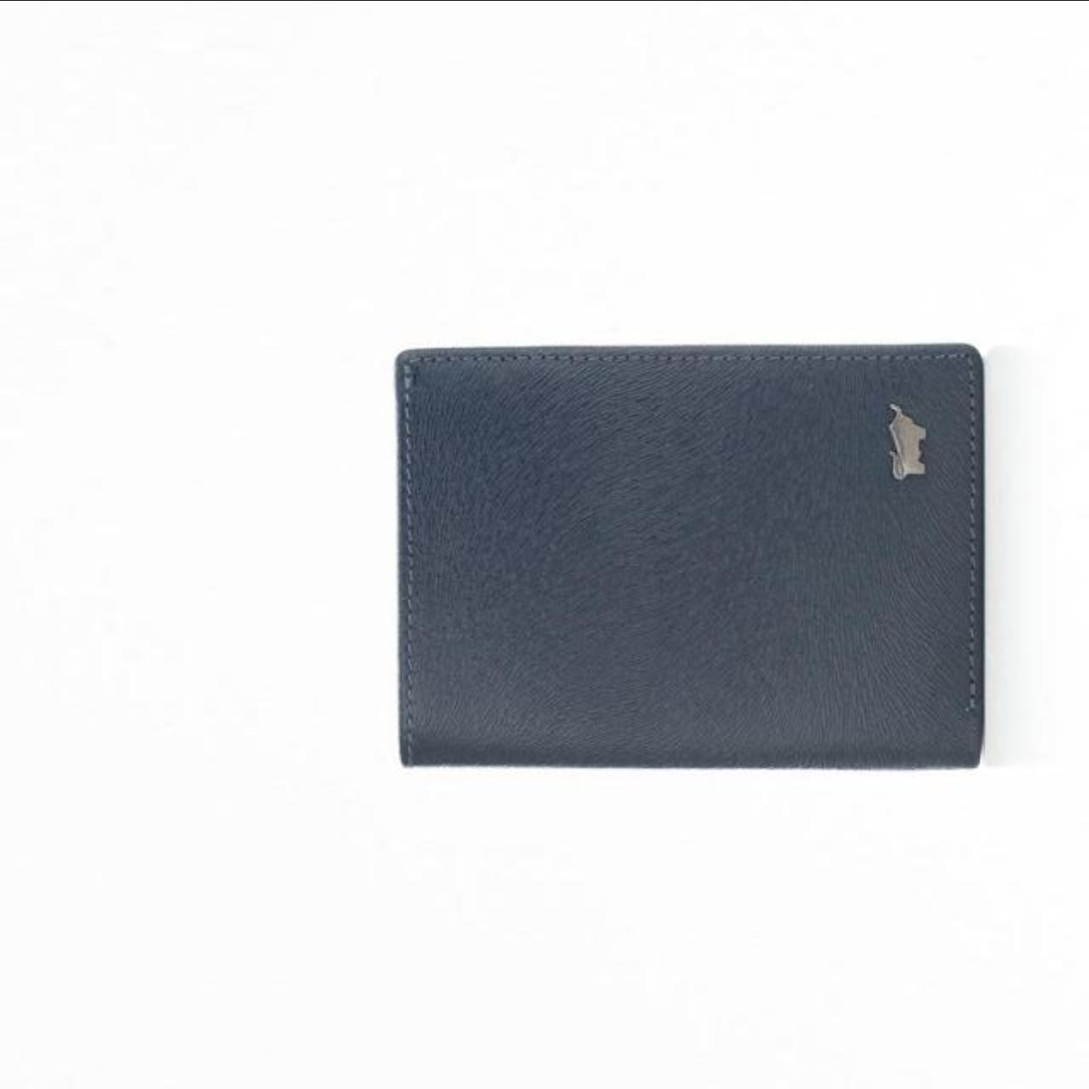wallet: (370, 301, 1025, 801)
